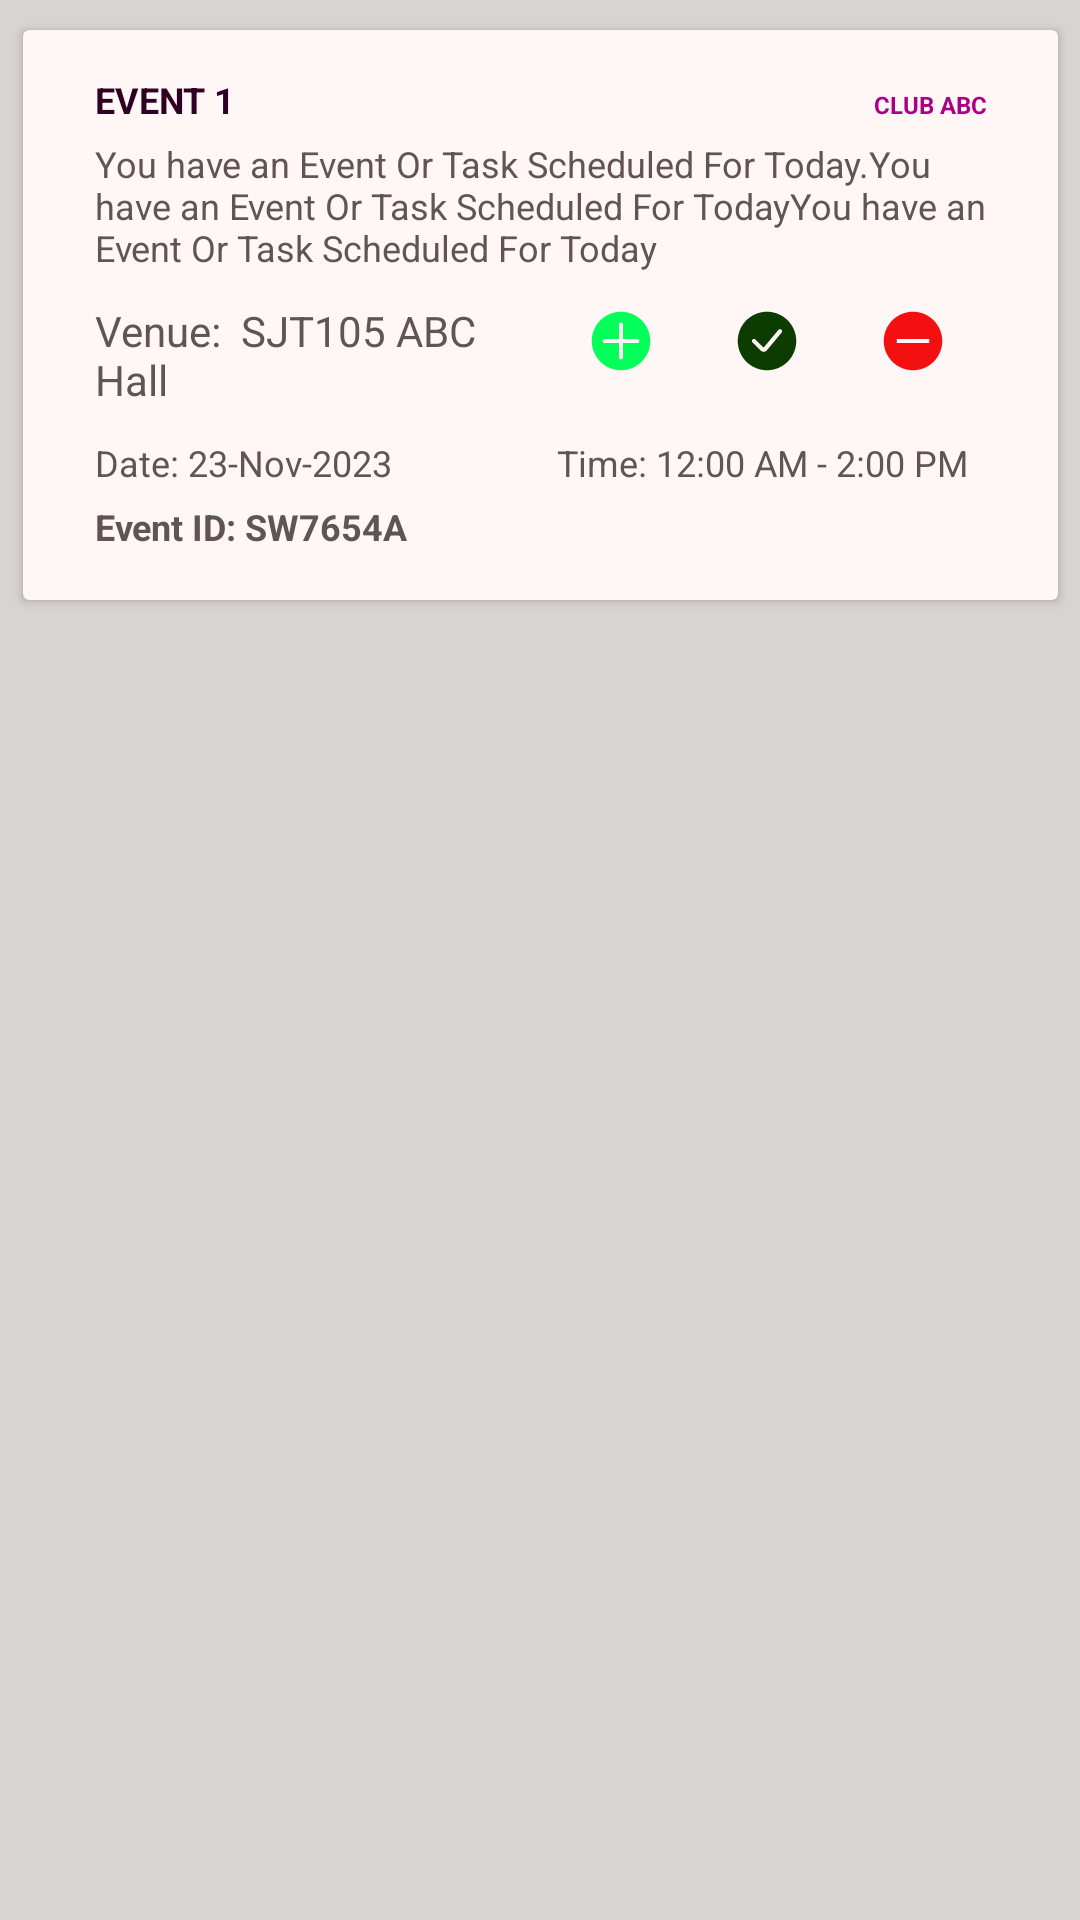

Where to tap for icons on this 1080 × 1920 app screen, as (x,y):
eventregister: (621,341)
registered: (767,341)
